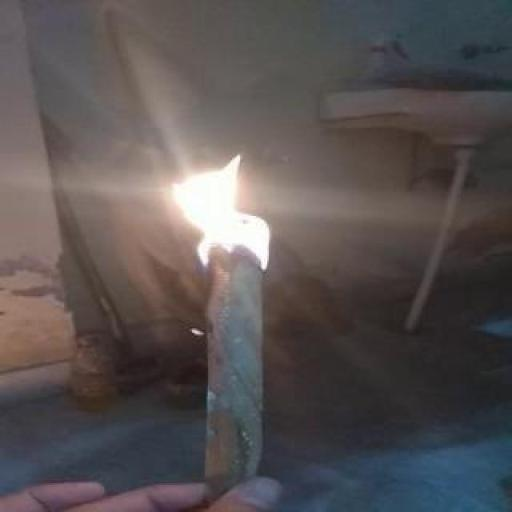smoke: (136, 133, 278, 270)
